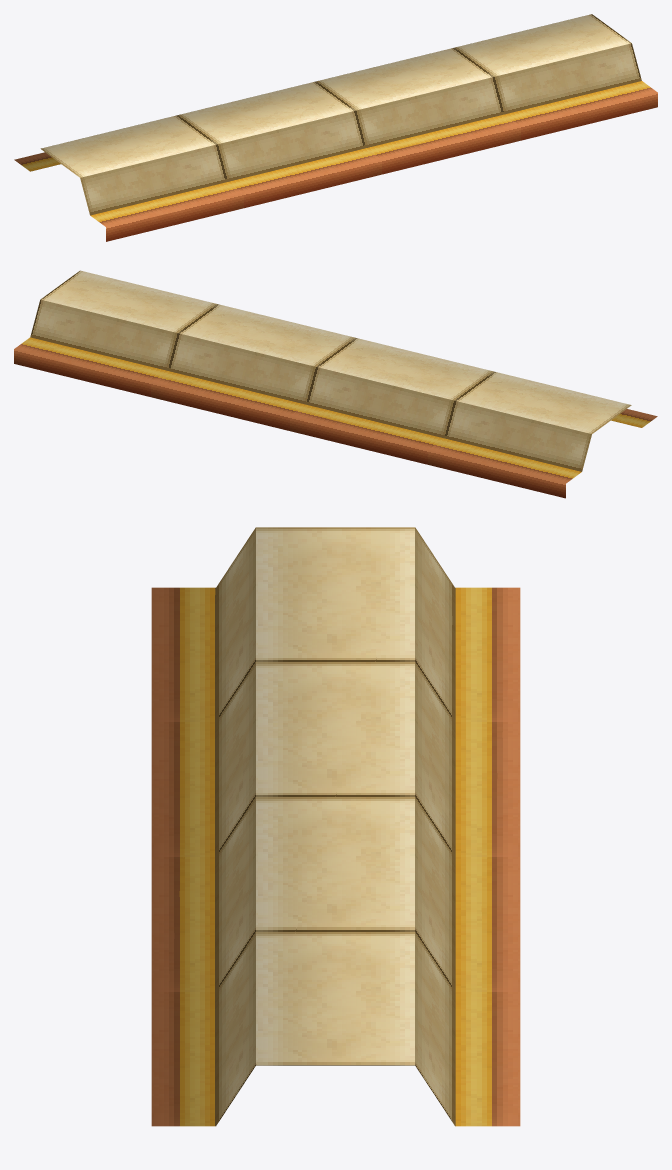
Rendered from a_SEblockB01.glb.
The picture shows the model from 3 angles, top to bottom: view 1: azimuth 30°, elevation 25°; view 2: azimuth 150°, elevation 25°; view 3: azimuth 270°, elevation 25°; orthographic projection. The views are drawn at different scales.
Visible parts, largest first — view 1: a_SEblockB01; view 2: a_SEblockB01; view 3: a_SEblockB01.
Part boxes in pixels (x1=…): a_SEblockB01: x1=14, y1=14, x2=657, y2=241; a_SEblockB01: x1=14, y1=270, x2=657, y2=498; a_SEblockB01: x1=151, y1=527, x2=520, y2=1126.
Bounding box in the file's own units: 2 × 0.1558 × 0.5783.
1 material, 1 textured.
